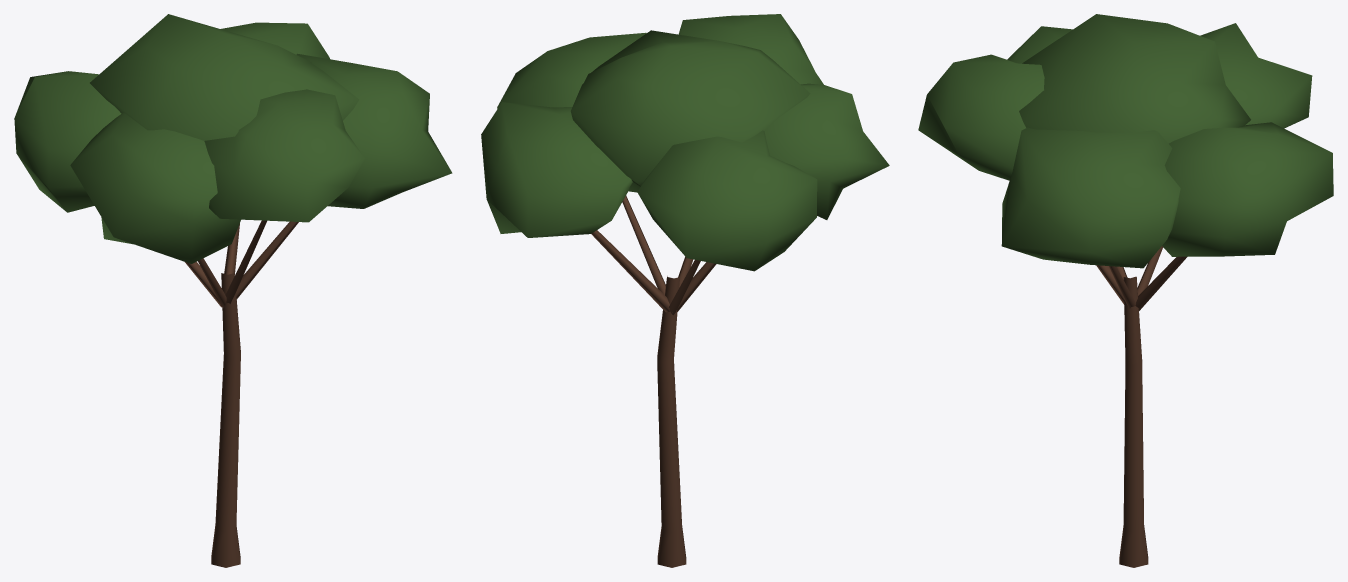
The model's file is acajou.glb.
The picture shows the model from 3 angles, left to right: view 1: azimuth 30°, elevation 25°; view 2: azimuth 150°, elevation 25°; view 3: azimuth 270°, elevation 25°; orthographic projection. The views are drawn at different scales.
Visible parts, largest first — view 1: acajou; view 2: acajou; view 3: acajou.
Boxes of the visible parts, box(x1,y1,x2,y2) form: acajou: box(14, 14, 452, 567); acajou: box(481, 14, 889, 567); acajou: box(918, 14, 1333, 567).
Size of the model in its own units: 10.69 by 15.4 by 11.2.
